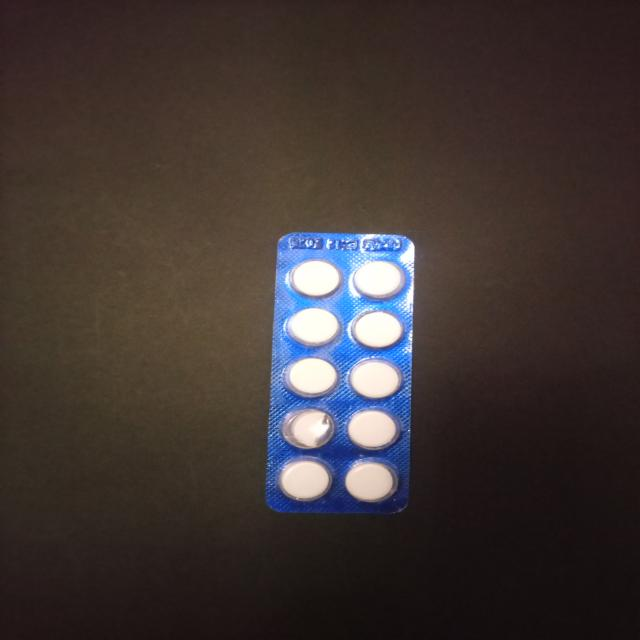defect: (279, 405, 338, 451)
